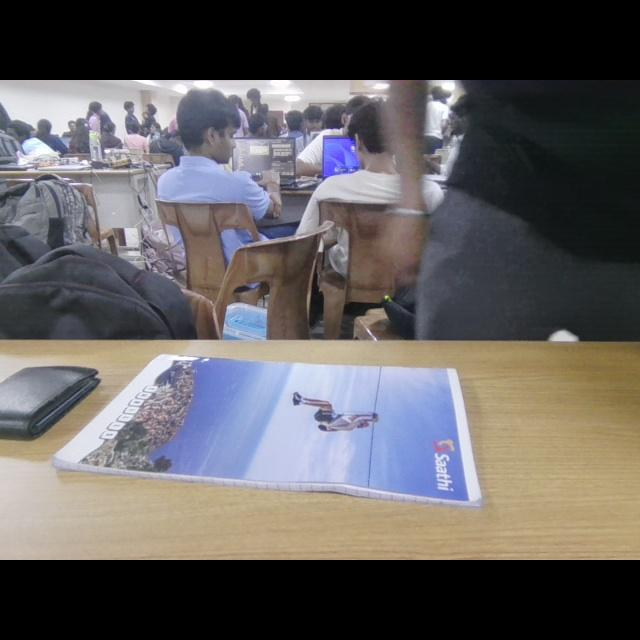wallet: (0, 351, 110, 454)
